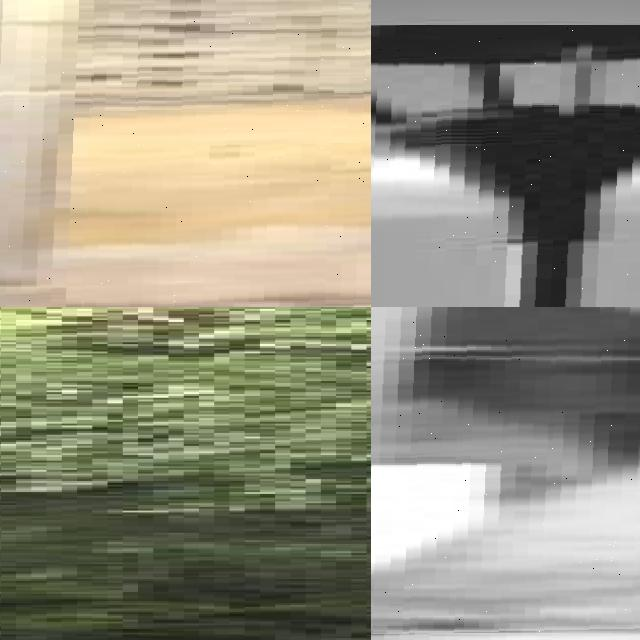street light: (0, 0, 371, 307), (371, 307, 640, 634), (371, 25, 640, 307)
